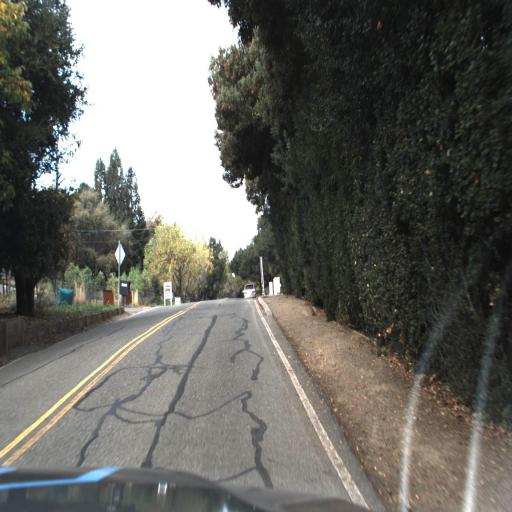car: (235, 279, 259, 312)
